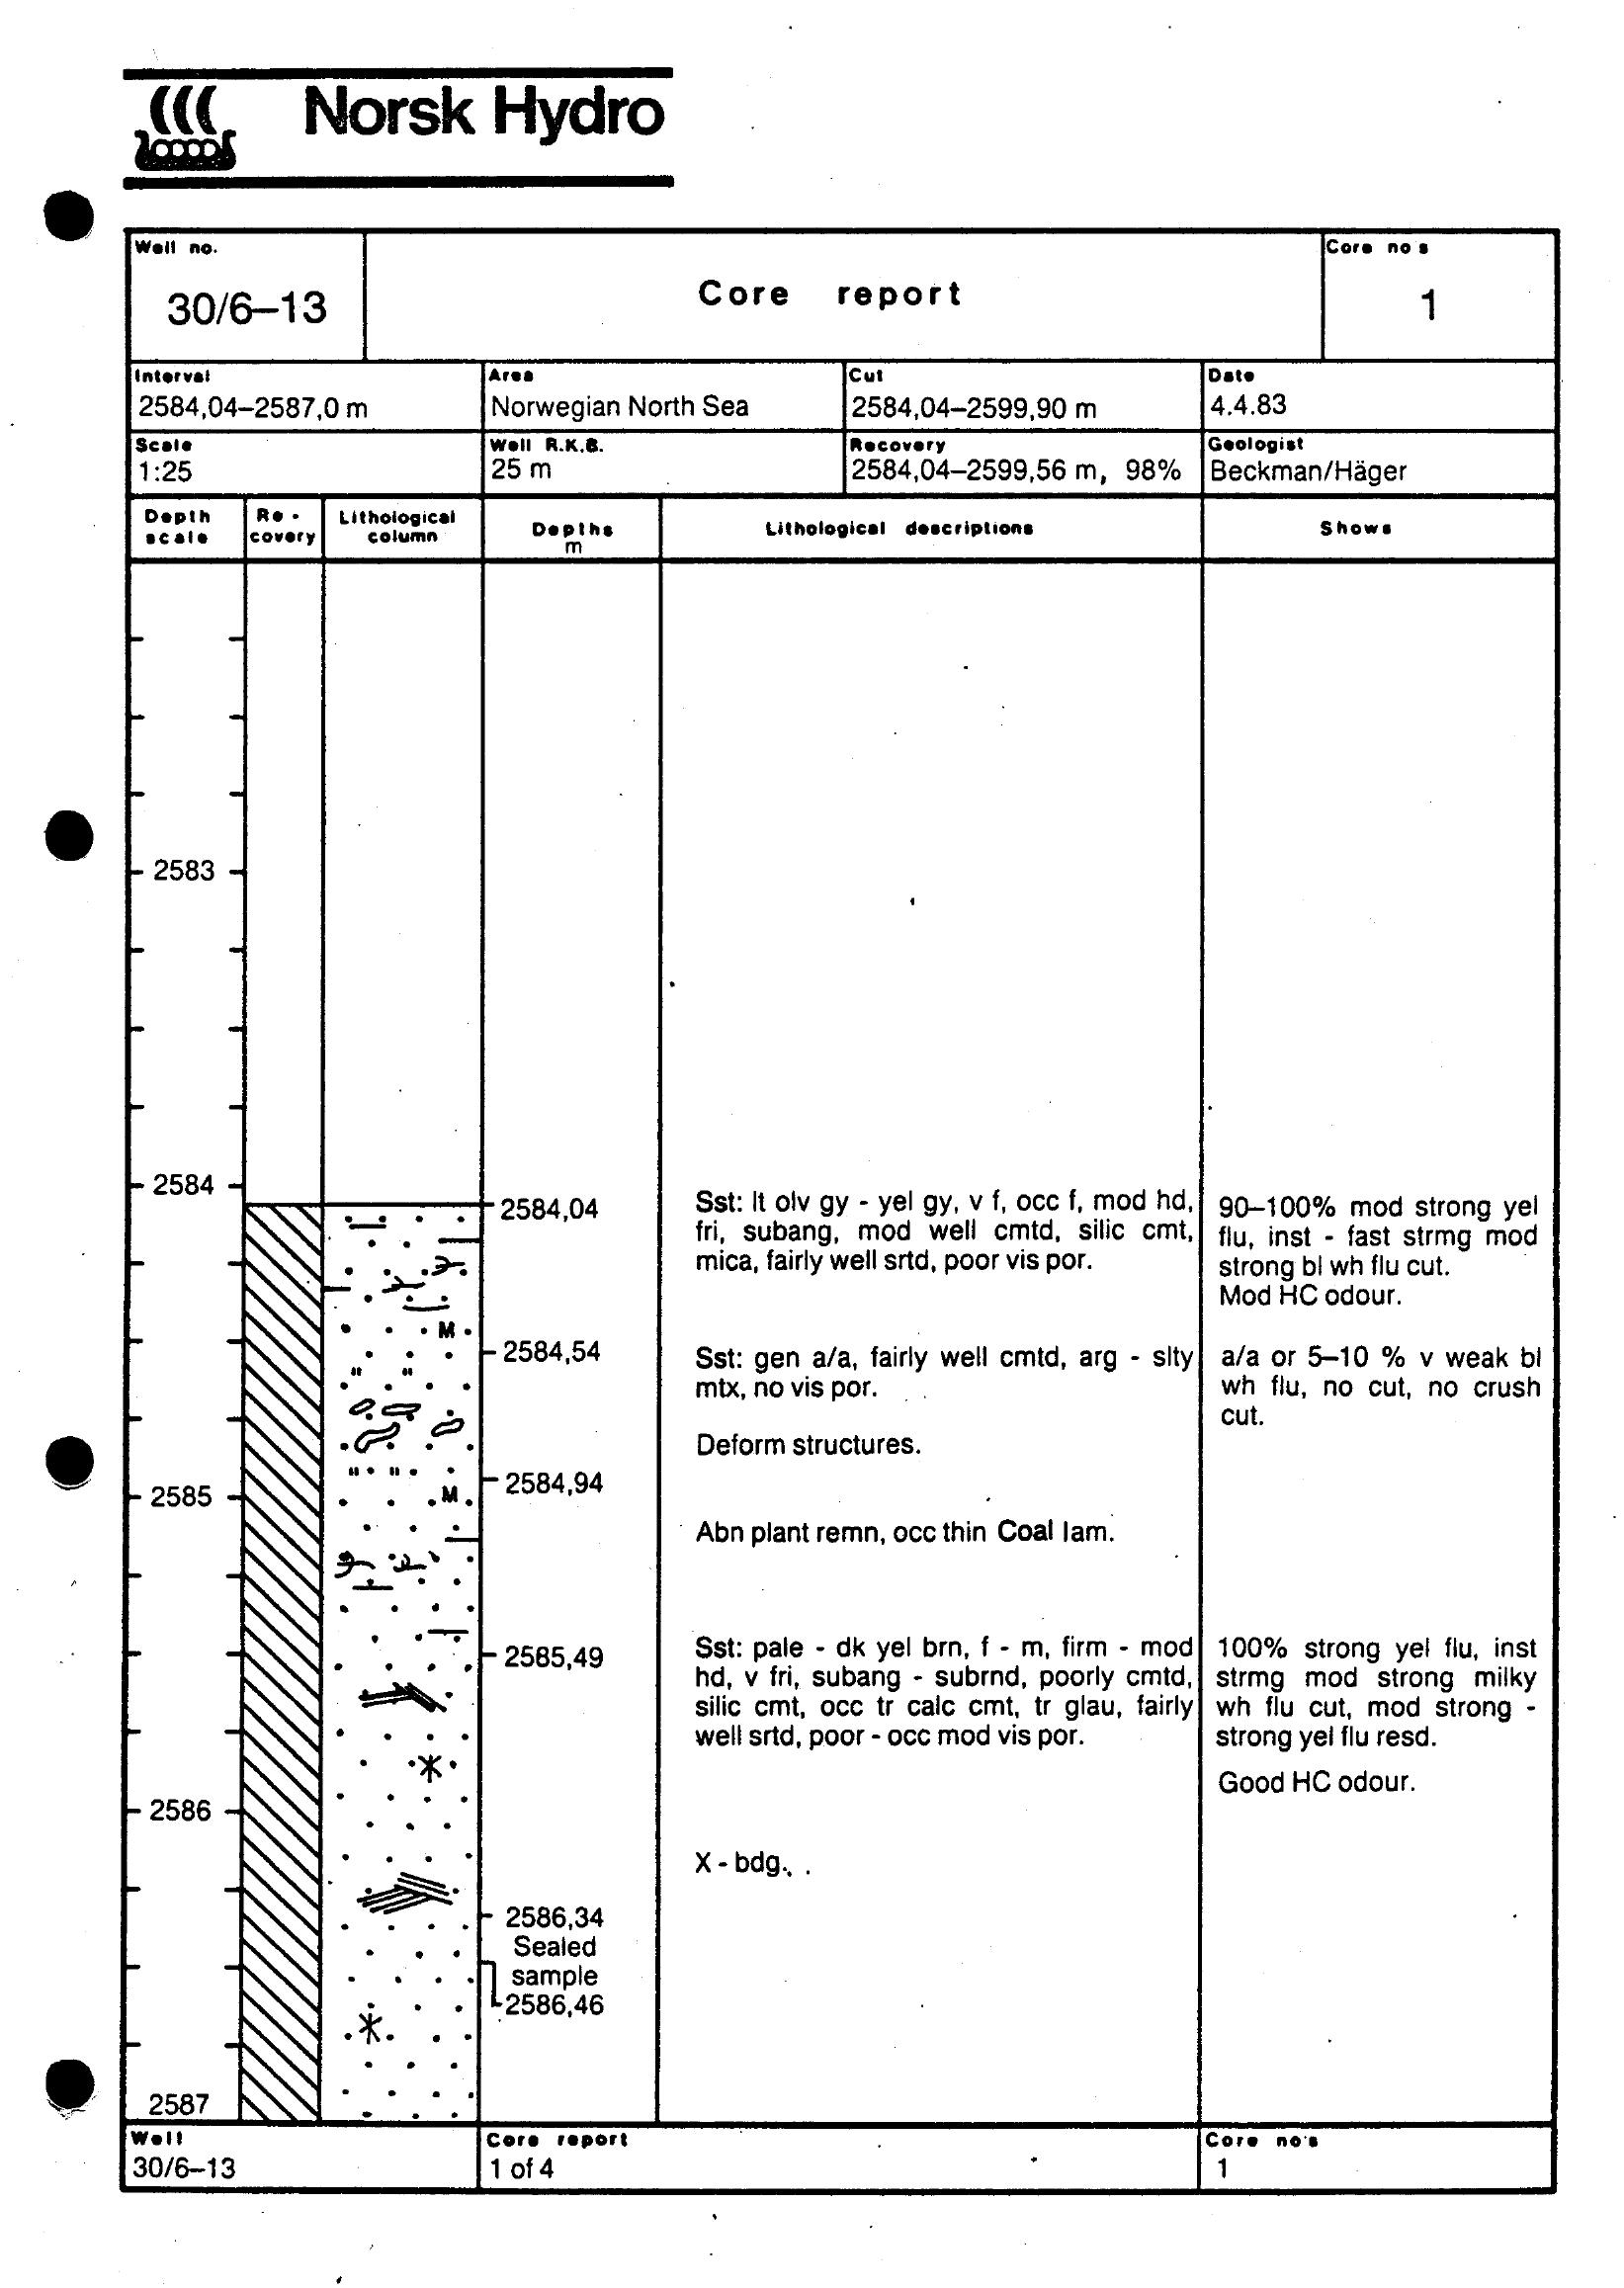graph: (112, 207, 1582, 2226)
undefined: (118, 44, 701, 197)
